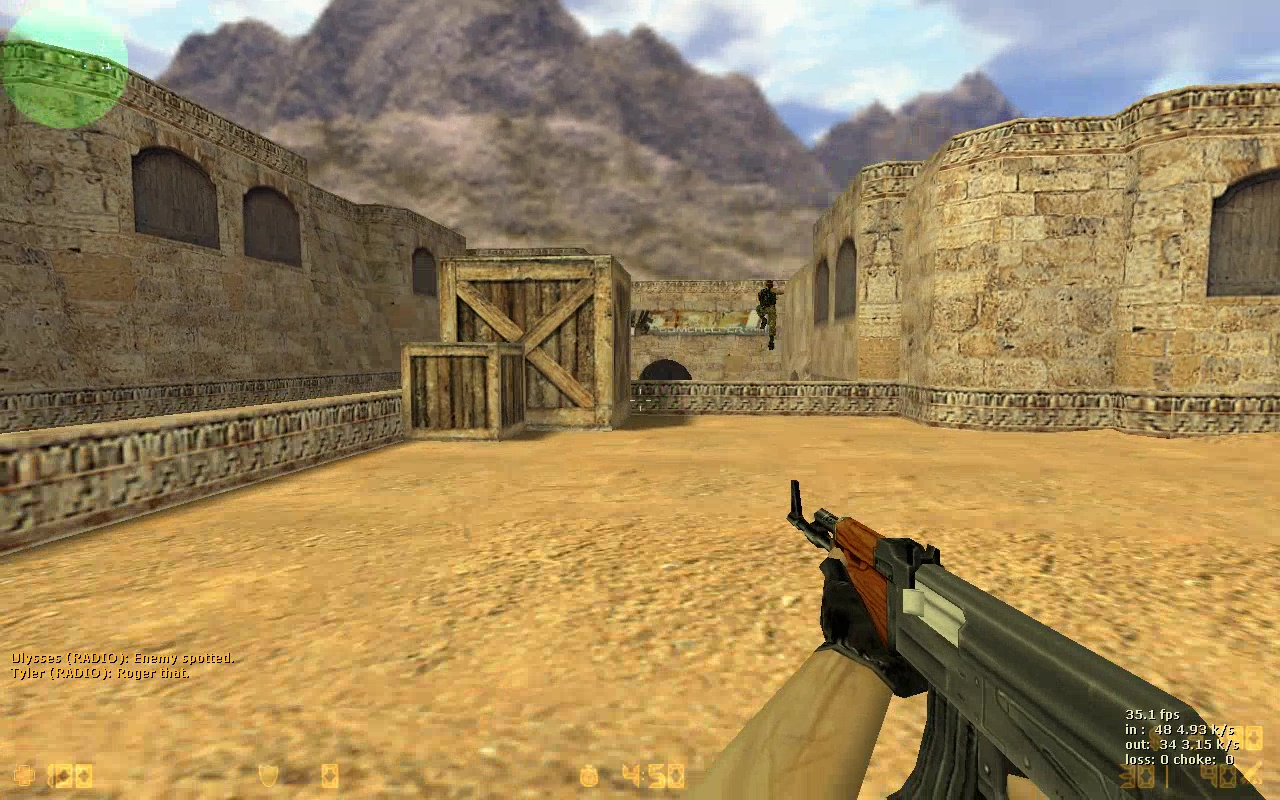terr1: (754, 278, 786, 350)
